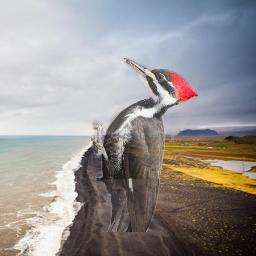Woodpecker: (91, 55, 198, 232)
